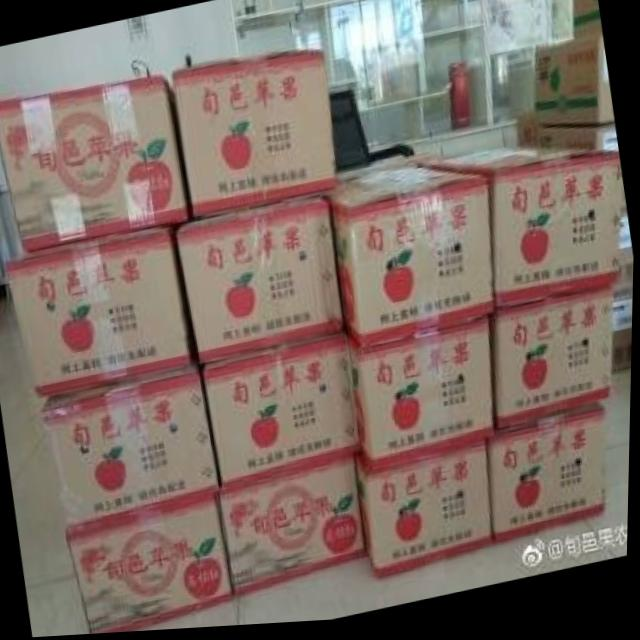box: (413, 152, 624, 321), (0, 76, 190, 254), (6, 227, 199, 398), (43, 364, 222, 532), (330, 171, 496, 352), (179, 195, 346, 364), (173, 55, 336, 225), (203, 334, 365, 496), (68, 494, 238, 635), (345, 322, 495, 479), (224, 459, 368, 600), (358, 444, 498, 583), (493, 295, 613, 437), (491, 409, 608, 547), (536, 40, 614, 130), (519, 125, 619, 157), (610, 271, 635, 380), (572, 0, 603, 46)
